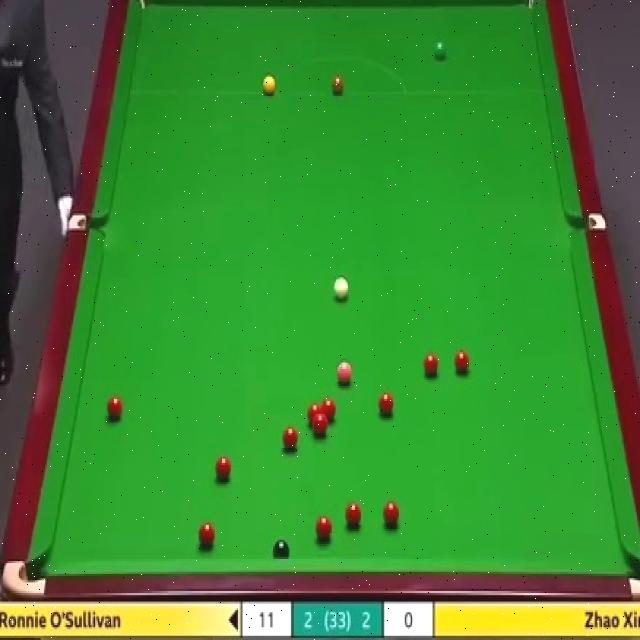black-ball: (273, 540, 290, 559)
brown-ball: (330, 73, 344, 97)
green-ball: (431, 41, 448, 61)
pink-ball: (337, 357, 353, 385)
red-ball: (422, 351, 440, 382), (107, 394, 125, 424), (198, 521, 216, 549), (382, 500, 400, 528), (214, 454, 231, 483), (345, 502, 362, 529), (316, 515, 332, 542), (378, 391, 393, 418), (454, 352, 470, 377), (283, 426, 298, 451), (322, 399, 336, 425), (314, 416, 328, 437), (308, 403, 321, 424)
white-ball: (332, 273, 350, 302)
yellow-ball: (262, 74, 276, 95)
